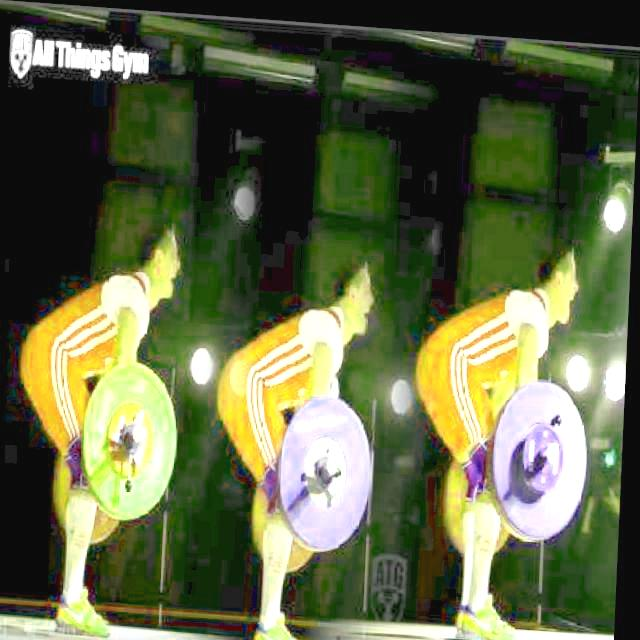barbell: (490, 362, 600, 539), (81, 350, 188, 529), (276, 380, 385, 555)
